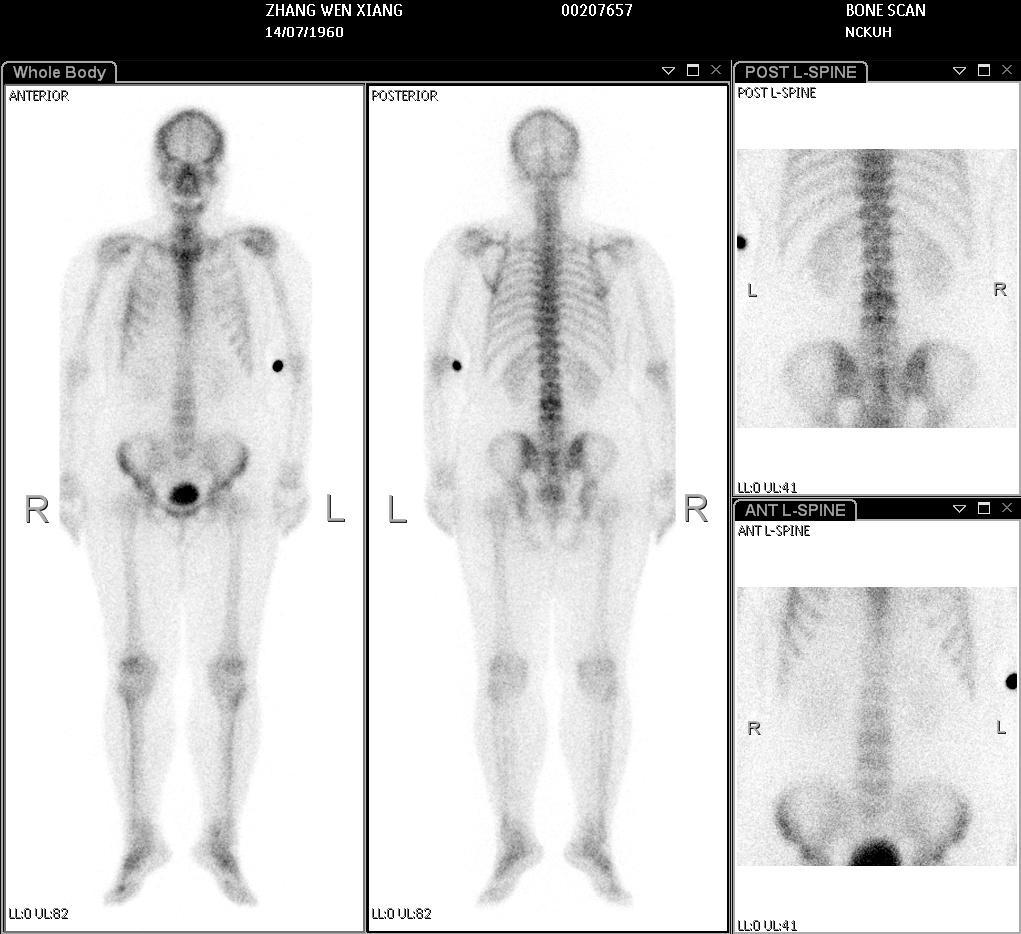person: (6, 85, 727, 931)
